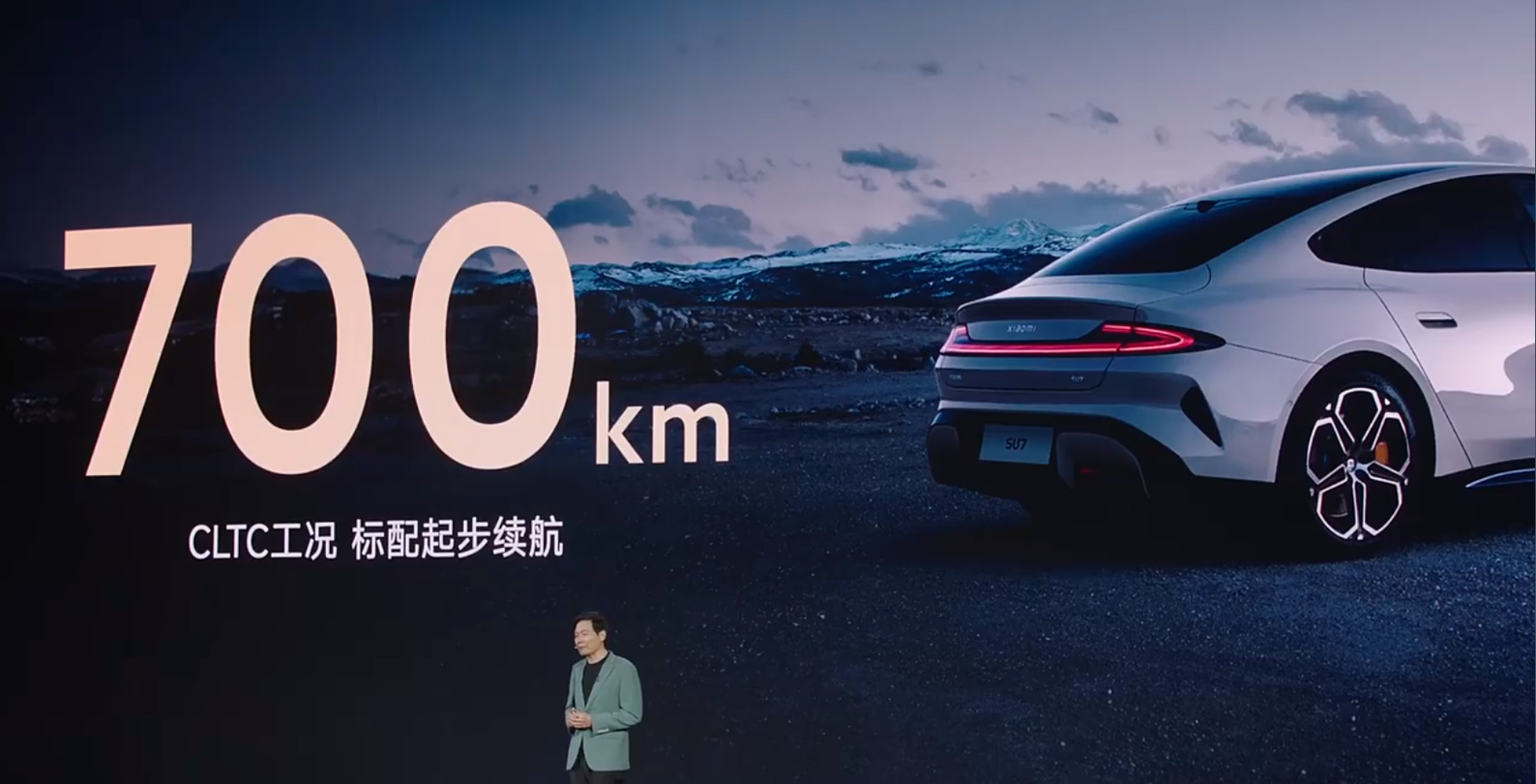su7: (927, 159, 1536, 555)
